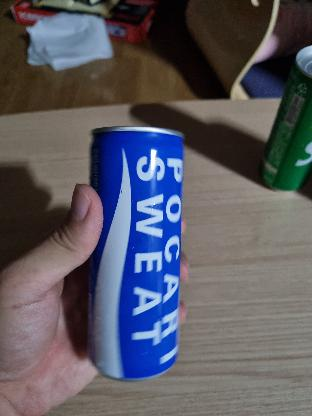Can: (84, 127, 184, 379)
